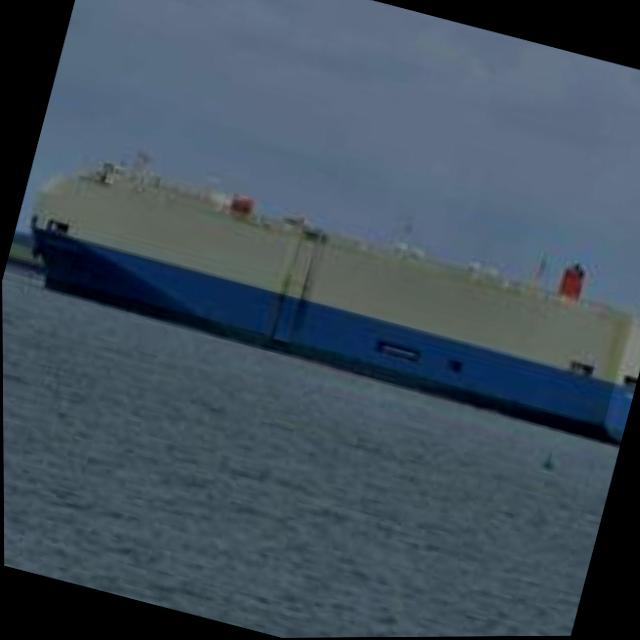ship2: (28, 151, 640, 448)
